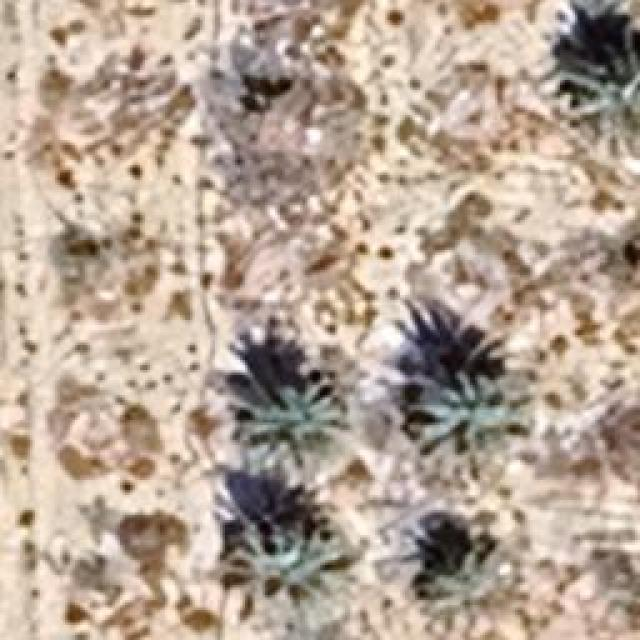PalmTree: (398, 352, 522, 468), (237, 390, 345, 480), (225, 515, 325, 605), (421, 531, 514, 611), (561, 29, 624, 122)
